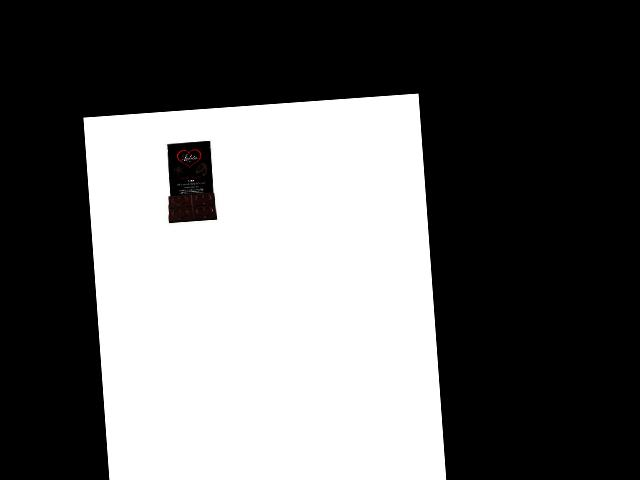chocolate: (159, 140, 218, 226)
